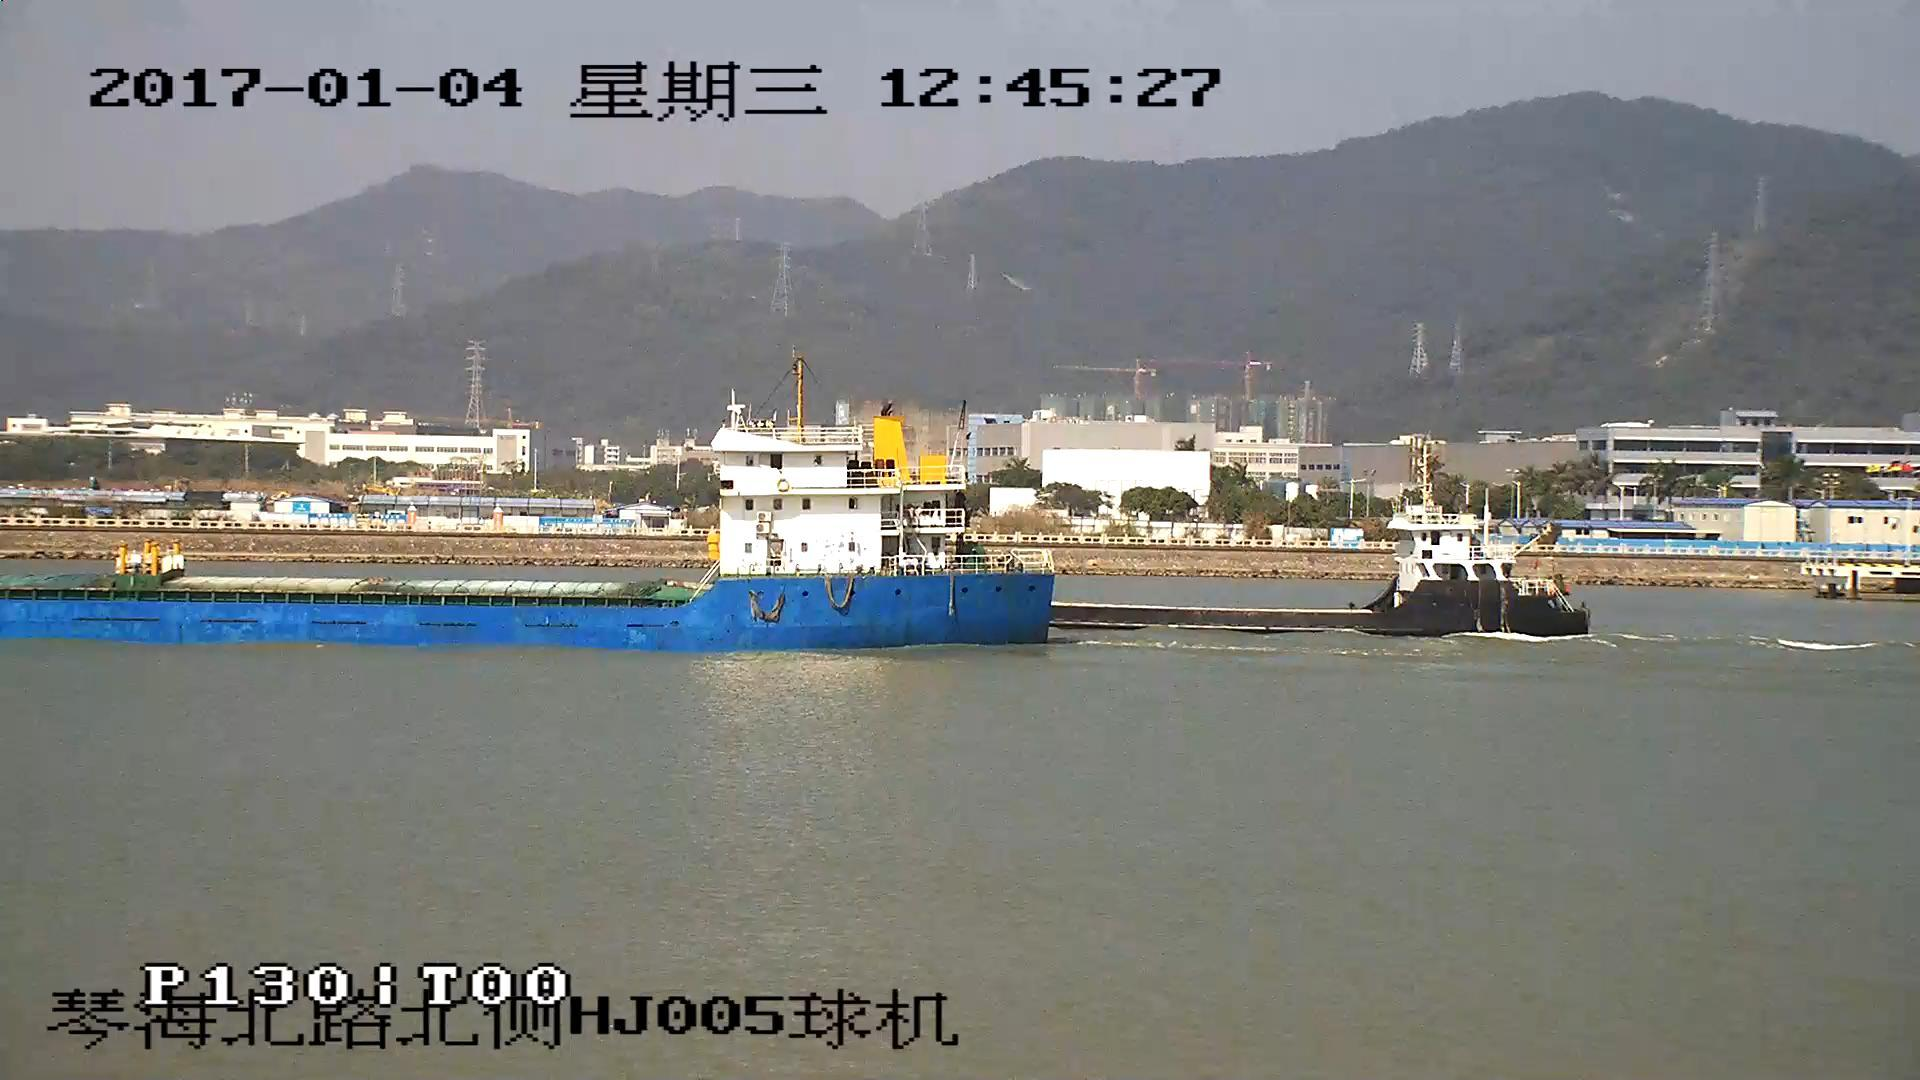Ship: (3, 425, 1055, 654), (1055, 502, 1596, 640)
